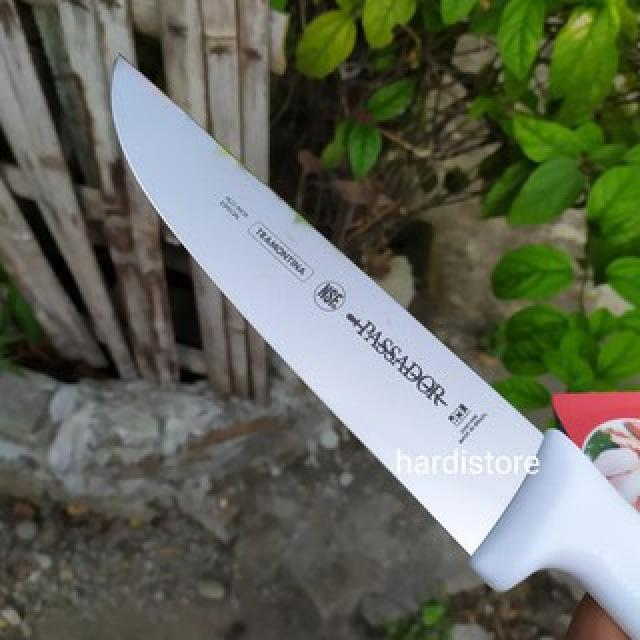Pisau: (100, 38, 638, 625)
